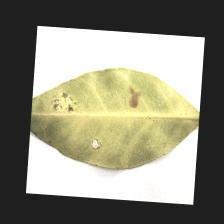black spot: (48, 73, 151, 153)
